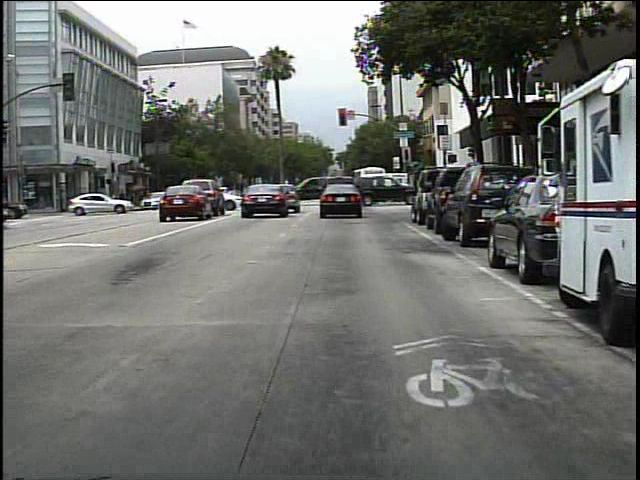car: (483, 163, 566, 266), (439, 161, 506, 240), (240, 171, 291, 217), (321, 174, 368, 218), (359, 172, 409, 211), (158, 185, 210, 220), (63, 190, 133, 215)
strada: (2, 221, 552, 470)
